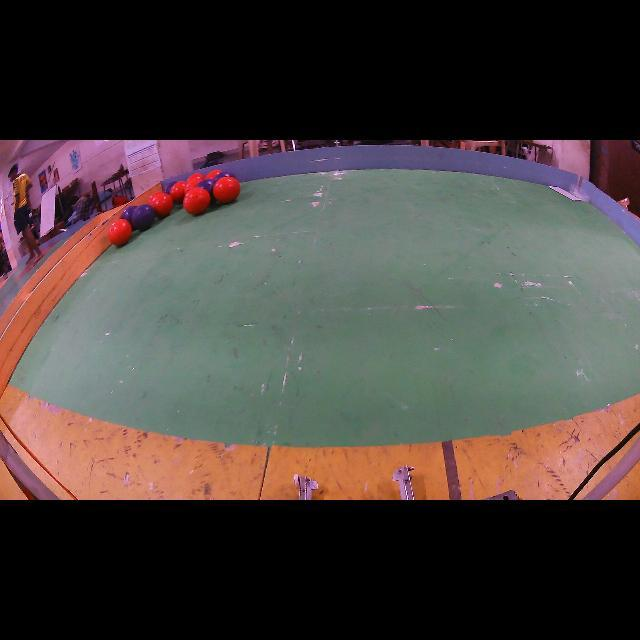P: (131, 204, 155, 231), (196, 179, 216, 203), (121, 205, 138, 224), (215, 171, 235, 180), (164, 181, 176, 194)
R: (184, 188, 211, 215), (214, 176, 240, 204), (149, 192, 172, 218), (109, 219, 131, 246), (184, 172, 205, 193), (170, 181, 185, 204), (148, 191, 161, 204), (205, 170, 222, 179)
